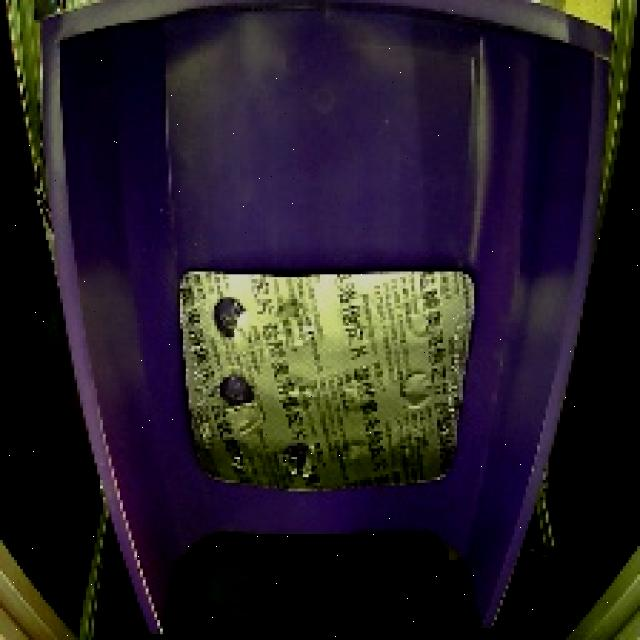med_plate: (165, 251, 484, 508)
